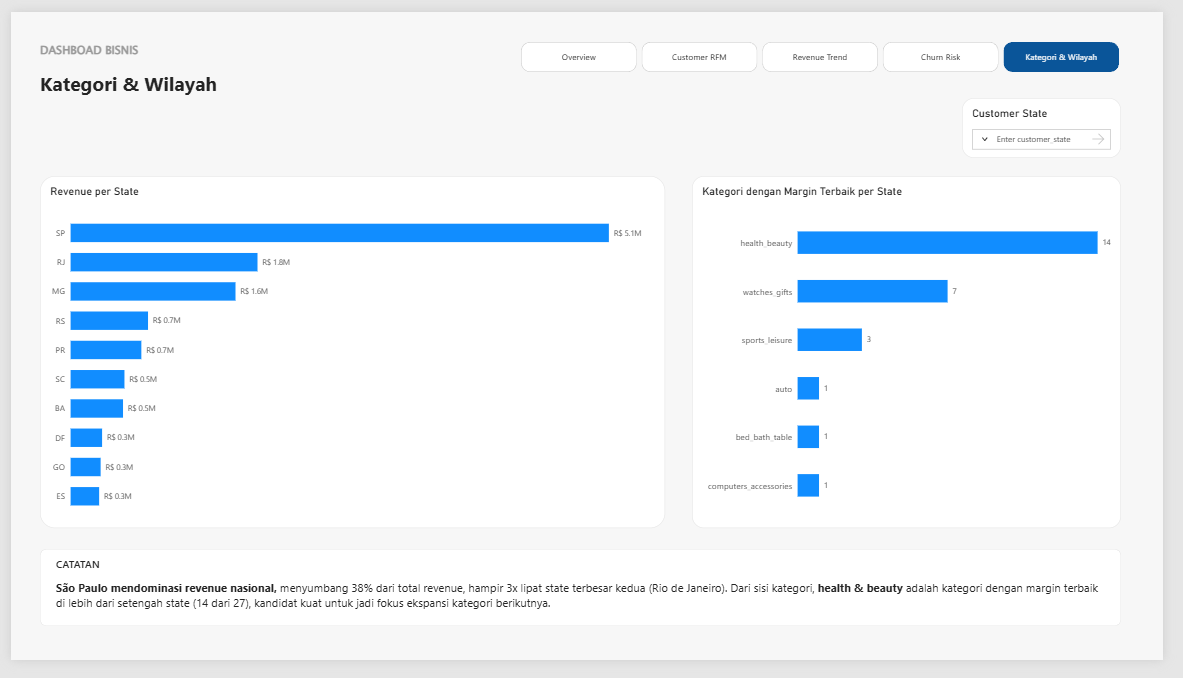

What the dashboard file says about the page in this screenshot:
{"tool":"powerbi","page":{"name":"Kategori & Wilayah","canvas":[1920,1080],"ordinal":4},"visuals":[{"type":"clusteredBarChart","title":"Revenue per State","fields":{"Category":["RevenuePerState.customer_state"],"Y":["Sum(RevenuePerState.total_revenue)"]},"box":[48.3,273.3,1041.7,586.7],"z":0},{"type":"clusteredBarChart","title":"Kategori dengan Margin Terbaik per State","fields":{"Category":["CategoryPerState.category"],"Y":["CountNonNull(CategoryPerState.customer_state)"]},"box":[1135,273.3,715,586.7],"z":1000},{"type":"textSlicer","title":"Customer State","fields":{"Values":["RevenuePerState.customer_state"]},"box":[1585,143.3,265,100],"z":2000},{"type":"shape","box":[48.3,895,1801.7,128.3],"z":3000},{"type":"textbox","title":"CATATAN","box":[75,908.3,1748.3,98.3],"z":4000},{"type":"textbox","box":[48.3,50,303.3,93.3],"z":5000},{"type":"pageNavigator","box":[850.6,49.6,1000,50],"z":6000}]}

Visuals, with their boxes in screenshot pixels (x1, y1, x2, y2), scaled from the page's 1920x1080 canvas onto the 1183x678 screenshot:
"Revenue per State" clusteredBarChart: crop(30, 172, 672, 540)
"Kategori dengan Margin Terbaik per State" clusteredBarChart: crop(699, 172, 1140, 540)
"Customer State" textSlicer: crop(977, 90, 1140, 153)
shape: crop(30, 562, 1140, 642)
"CATATAN" textbox: crop(46, 570, 1123, 632)
textbox: crop(30, 31, 217, 90)
pageNavigator: crop(524, 31, 1140, 63)
